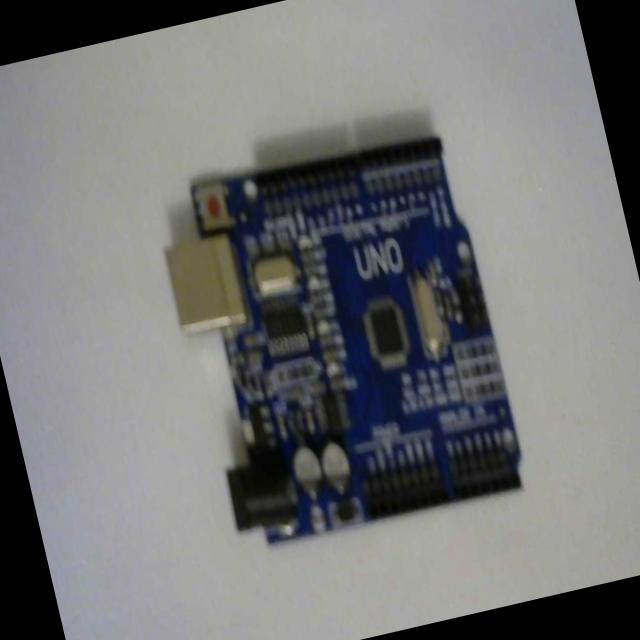arduino: (147, 116, 535, 559)
